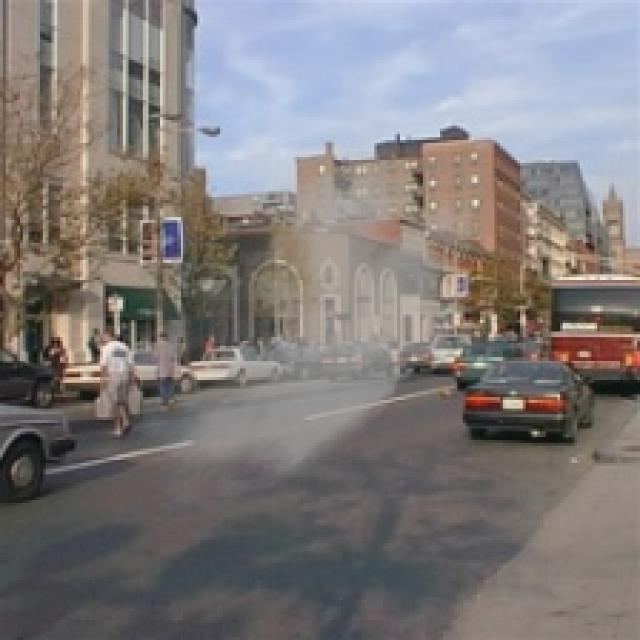Smoke: (80, 131, 489, 520)
